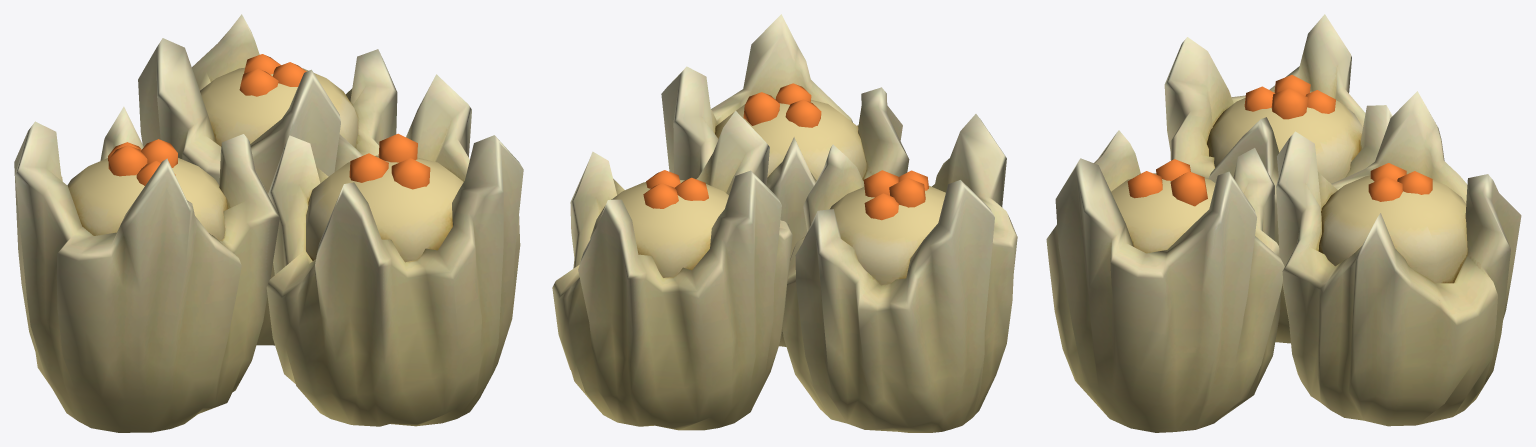
The model's file is m_recipe_dimsum_03.fbx.
3 views of the same model, side by side, from view 1: azimuth 30°, elevation 25°; view 2: azimuth 150°, elevation 25°; view 3: azimuth 270°, elevation 25° (orthographic). The views are drawn at different scales.
Parts seen in each view (by area): view 1: m_recipe_dimsum_01_0; view 2: m_recipe_dimsum_01_0; view 3: m_recipe_dimsum_01_0.
Part boxes in pixels (x1,y1,x2,y2): m_recipe_dimsum_01_0: (14,14,523,432); m_recipe_dimsum_01_0: (552,14,1017,432); m_recipe_dimsum_01_0: (1046,14,1521,432).
Size of the model in its own units: 0.6266 by 0.4136 by 0.6724.
1 material, 1 textured.
